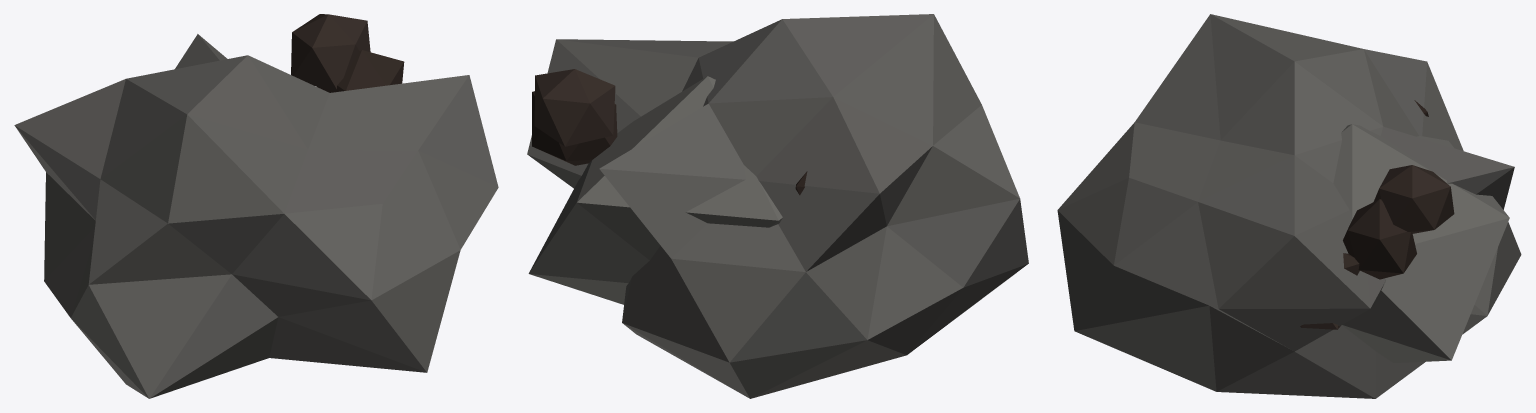
The model's file is coal_rock.glb.
3 views of the same model, side by side, from view 1: azimuth 30°, elevation 25°; view 2: azimuth 150°, elevation 25°; view 3: azimuth 270°, elevation 25° (orthographic). The views are drawn at different scales.
Parts seen in each view (by area): view 1: coal_rock; view 2: coal_rock; view 3: coal_rock.
Part boxes in pixels (<box>): coal_rock: <box>14,14,498,398</box>; coal_rock: <box>527,14,1028,398</box>; coal_rock: <box>1057,14,1521,398</box>.
Size of the model in its own units: 1.65 by 1.17 by 1.65.
Materials: 1 (1 with a texture image).
